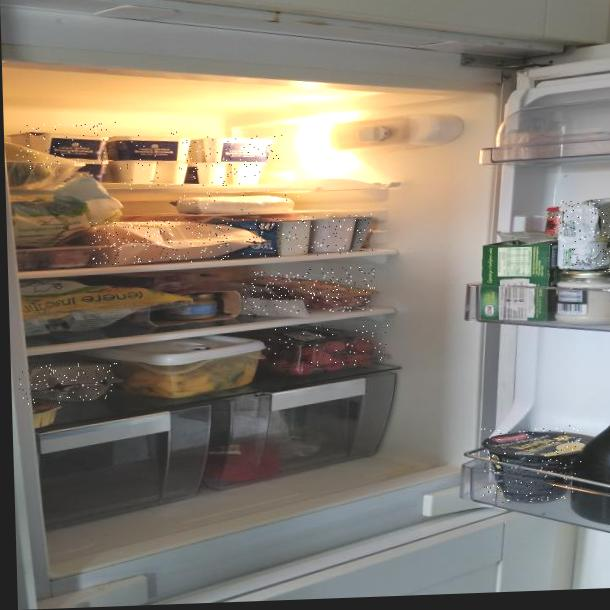bacon: (241, 267, 376, 316)
butter: (550, 198, 610, 274)
cheese: (90, 217, 234, 266), (171, 189, 302, 218)
eggs: (18, 362, 120, 405)
tomatoes: (268, 324, 389, 371)
yoghurt: (481, 425, 583, 504), (241, 213, 374, 258), (16, 122, 119, 170), (180, 131, 283, 164), (103, 131, 195, 165), (113, 159, 190, 192), (193, 161, 266, 187)
